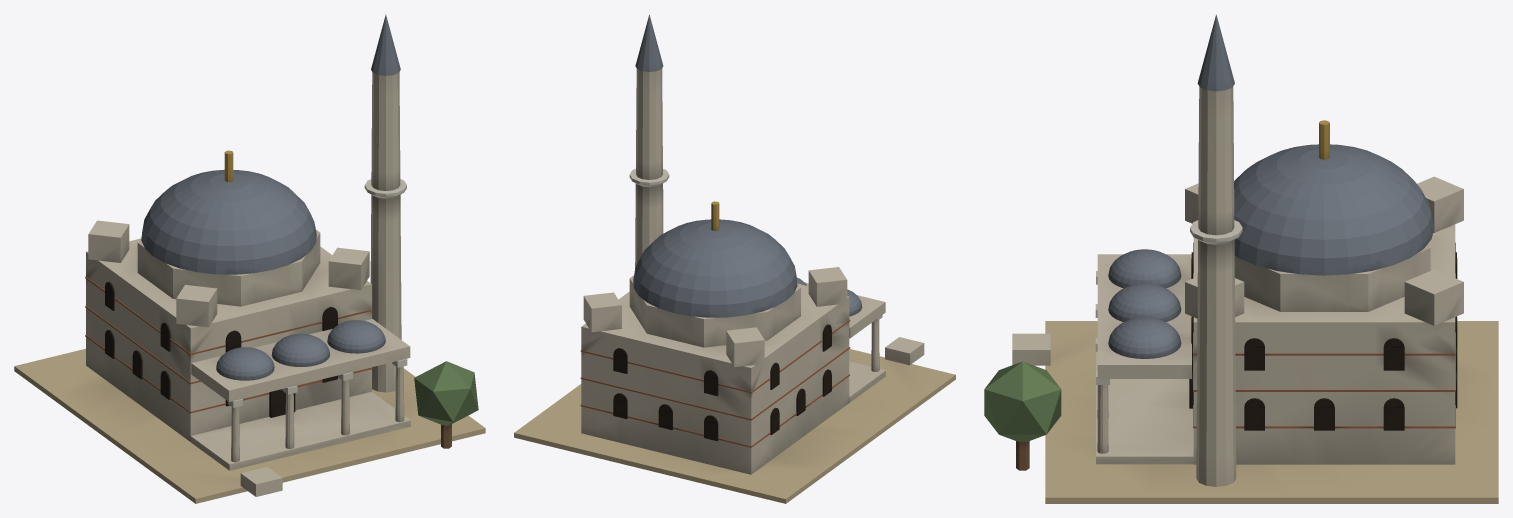
Rendered from fethiye.glb.
3 views of the same model, side by side, from view 1: azimuth 30°, elevation 25°; view 2: azimuth 150°, elevation 25°; view 3: azimuth 270°, elevation 25° (orthographic). The views are drawn at different scales.
Visible parts, largest first — view 1: p0_hall, p2_portico, p1_dome; view 2: p0_hall, p1_dome, p2_portico; view 3: p0_hall, p2_portico, p1_dome.
Boxes of the visible parts, x1,y1,x2,y2 form: p0_hall: (14,238,485,503); p2_portico: (190,14,478,496); p1_dome: (88,150,369,327); p0_hall: (514,284,955,503); p1_dome: (583,201,847,367); p2_portico: (629,14,924,402); p0_hall: (1045,224,1498,503); p2_portico: (984,14,1242,486); p1_dome: (1185,120,1463,325).
Bounding box in the file's own units: 24 × 29.8 × 29.51.
